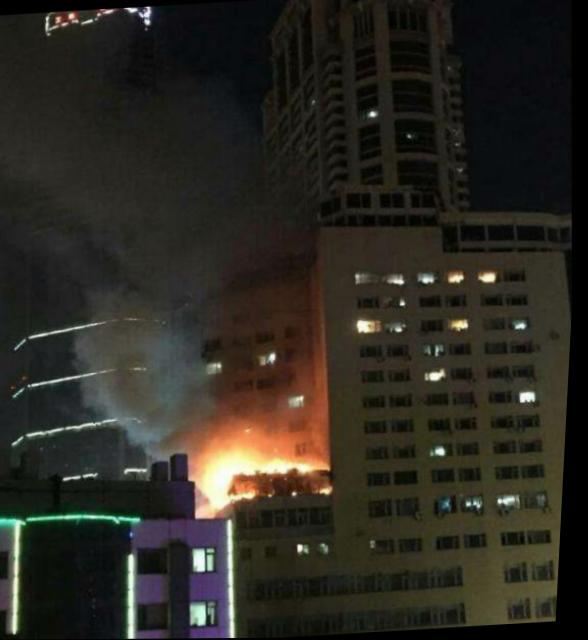fire: (201, 436, 331, 522)
